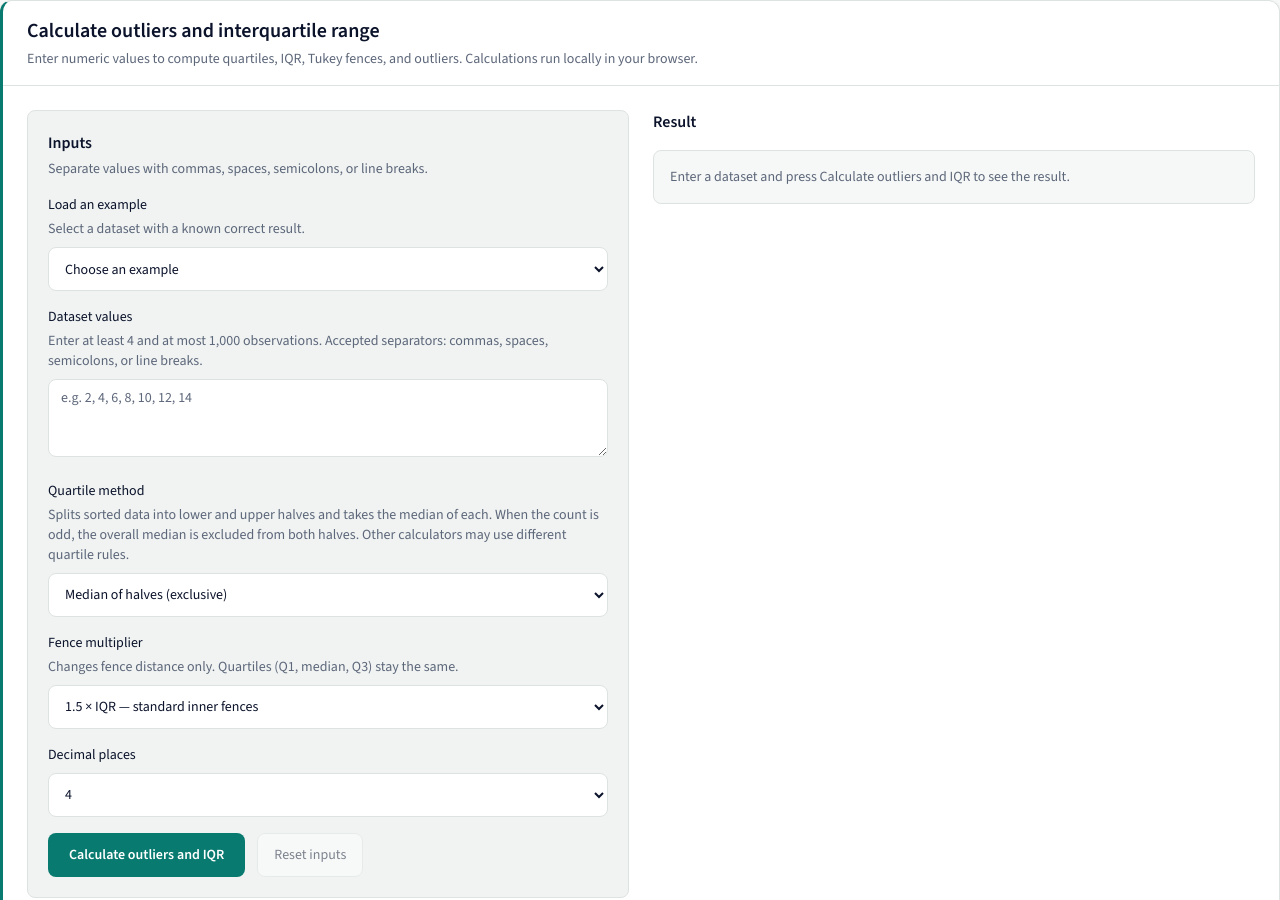
OutlierIqrCalculator calculation workflow › clears stale state after recalculation
The width and height of the screenshot is (1280, 900).
Step 1. Type "2, 4, 6, 8, 10, 12, 14" into the text box labelled "Dataset values" → x=328, y=418, box [48, 379, 608, 457]
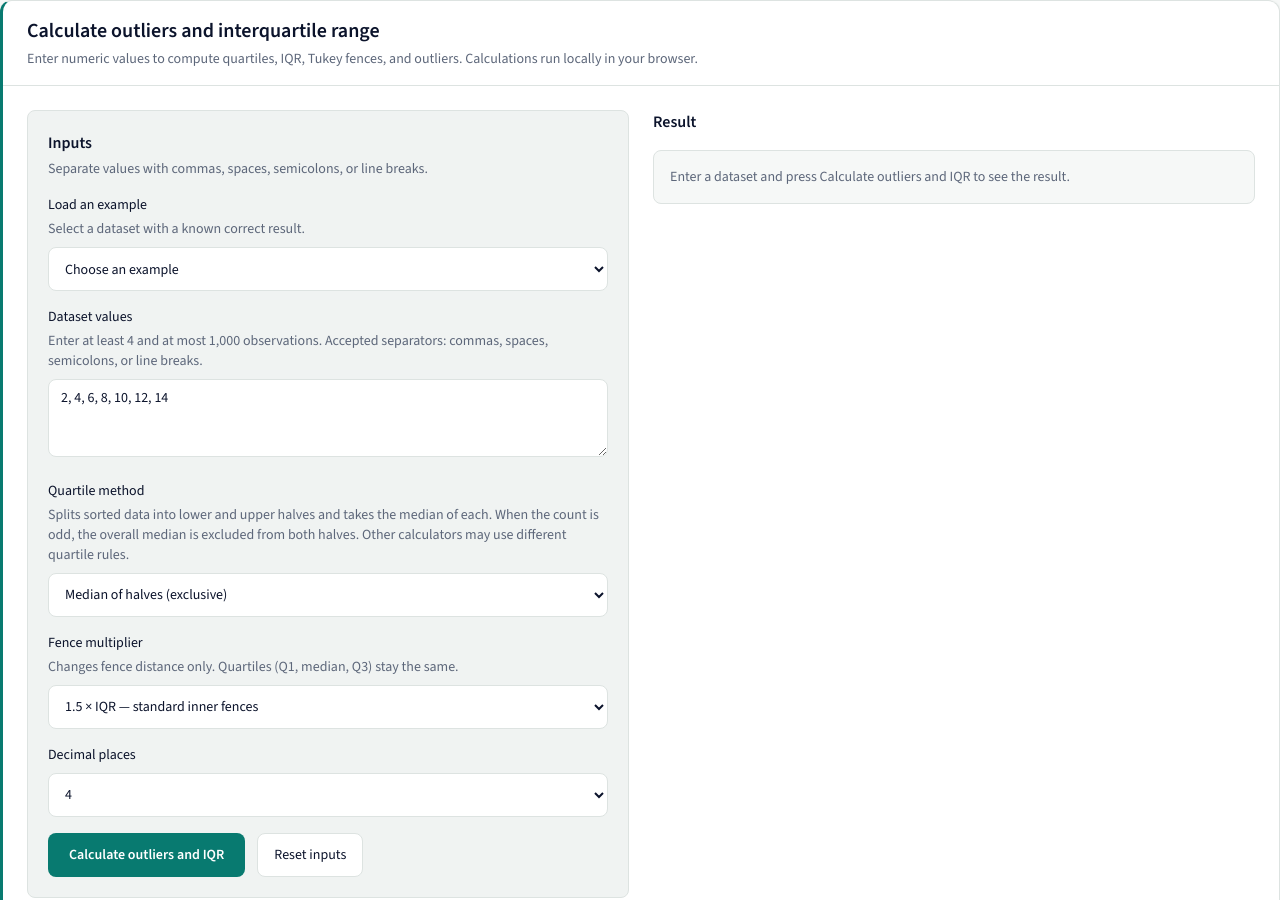
Step 2. Click the button "Calculate outliers and IQR" → x=147, y=855, box [48, 833, 245, 877]
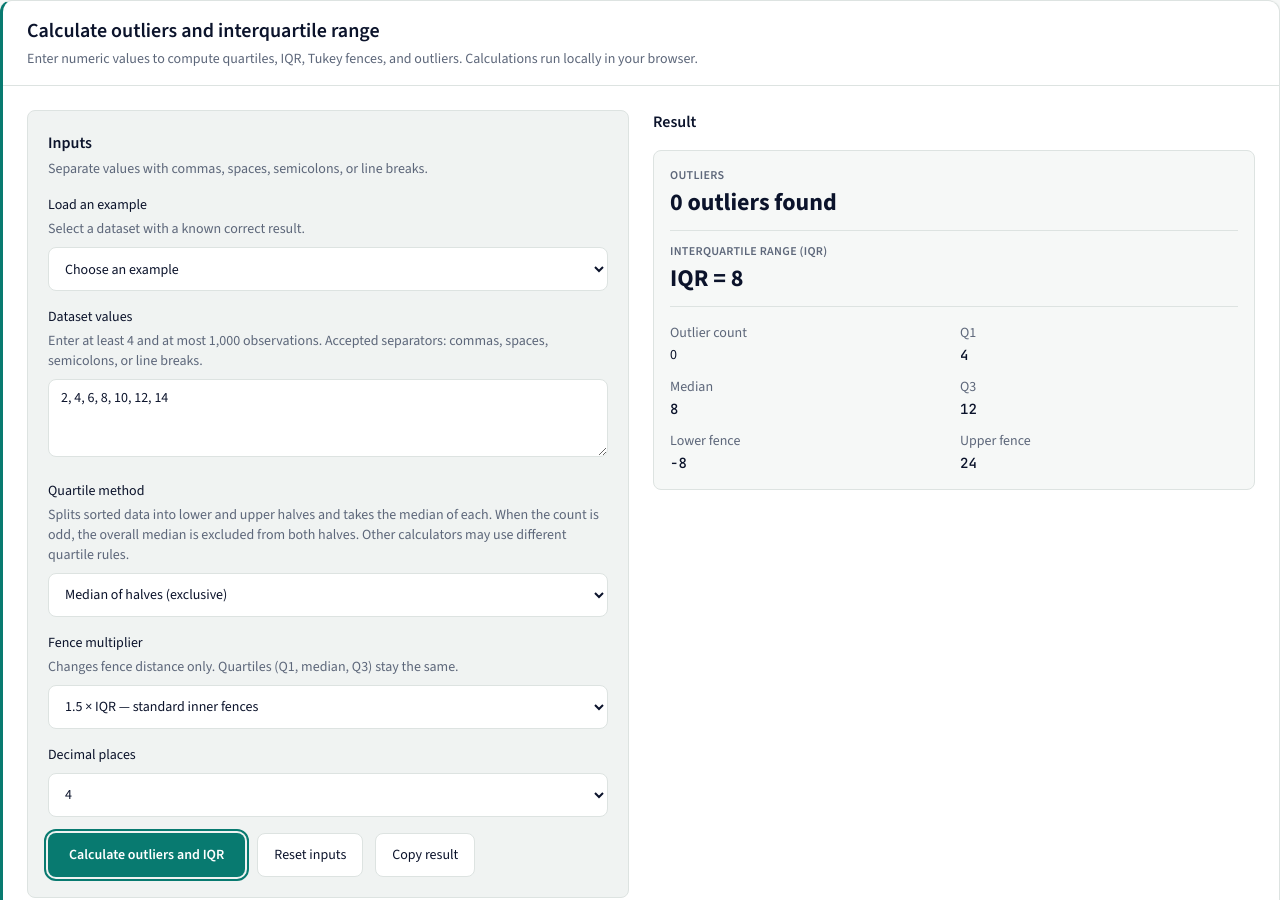
Step 3. Select "3.0 × IQR — wider outer fences" in the dropdown labelled "Fence multiplier" → x=328, y=707, box [48, 685, 608, 729]
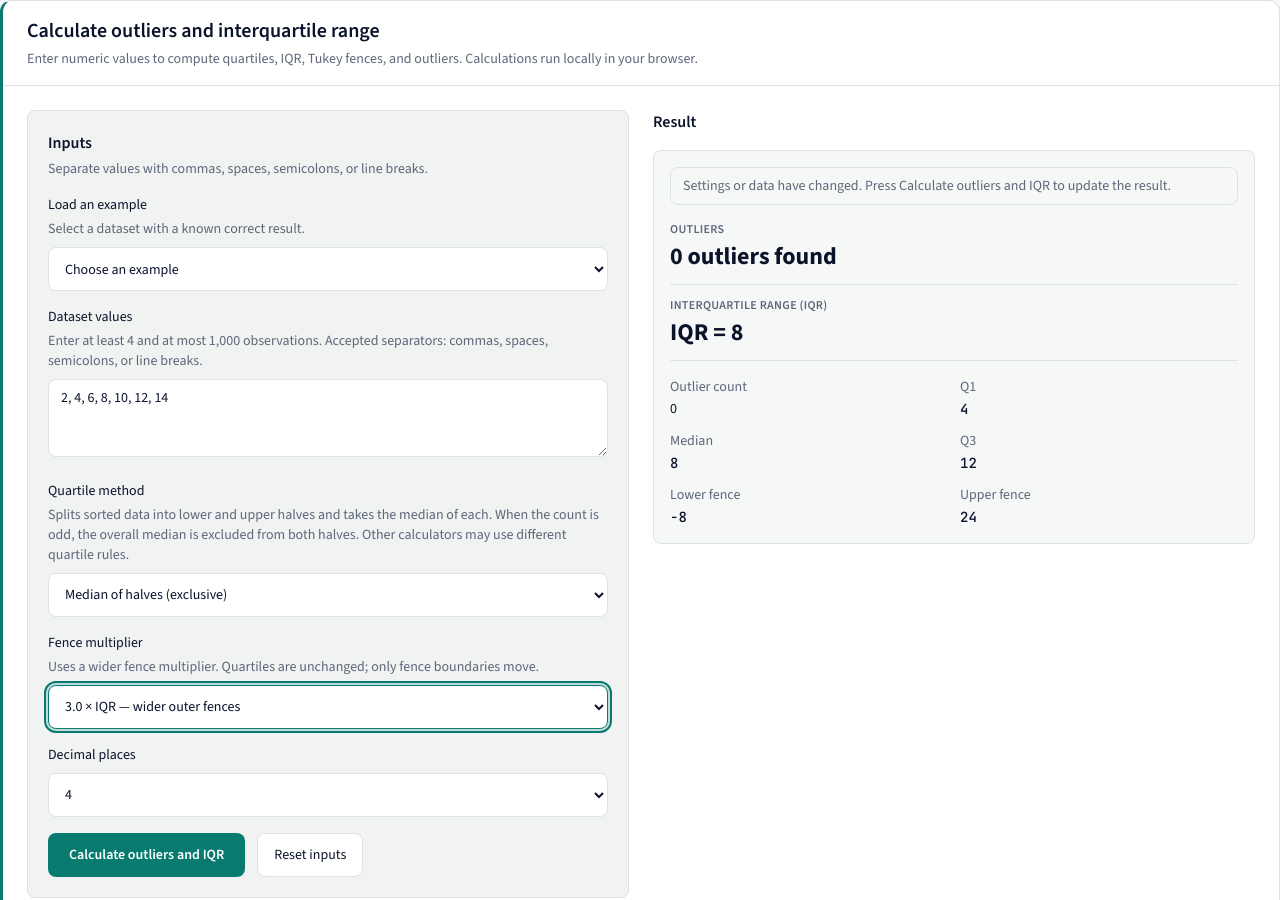
expect the text "Settings or data have changed. Press Calculate outliers and IQR to update the result." is shown: met, box [683, 176, 1171, 195]
Step 4. Click the button "Calculate outliers and IQR" → x=147, y=855, box [48, 833, 245, 877]
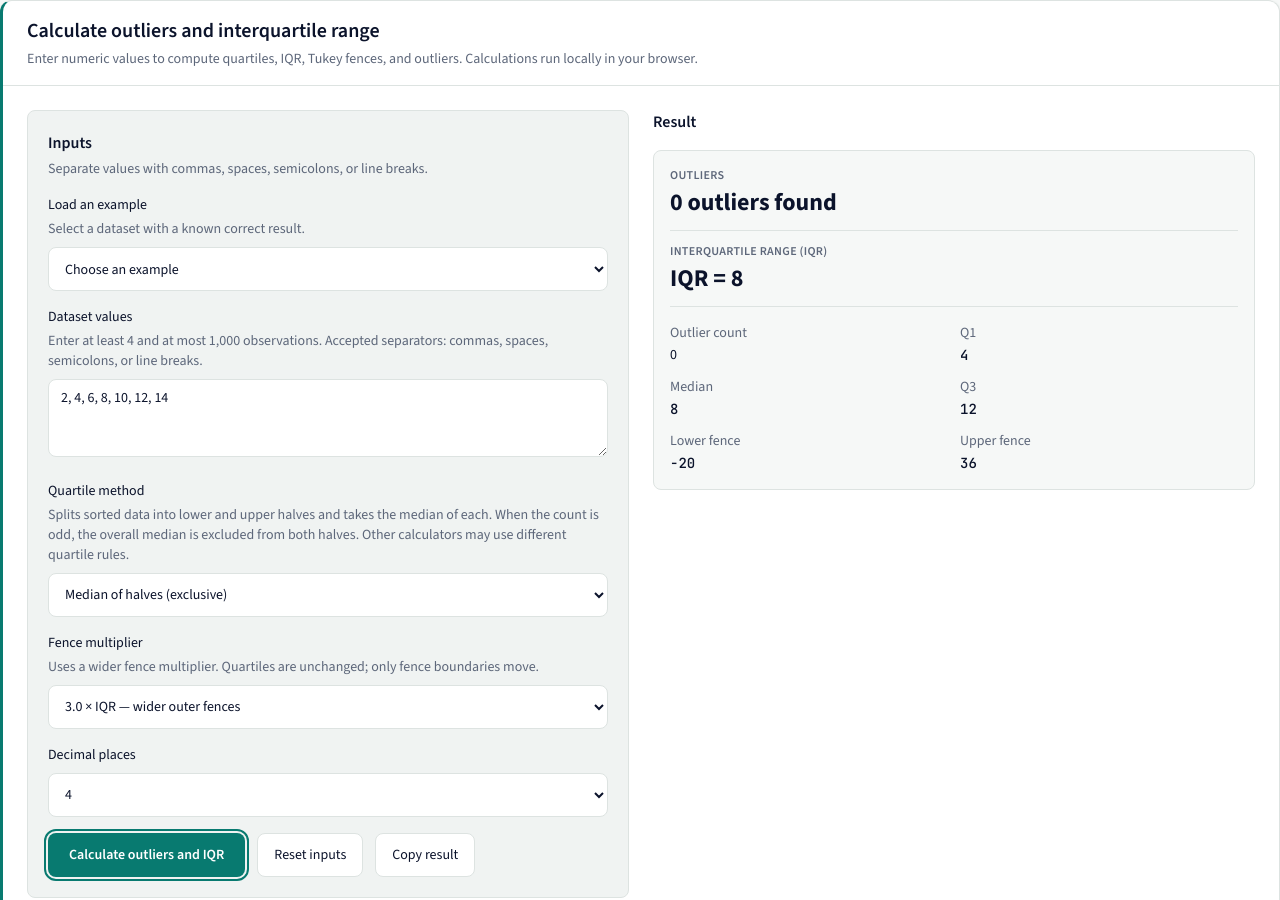
expect the text "Settings or data have changed. Press Calculate outliers and IQR to update the result." is gone: met
expect the button "Copy result" is shown: met, box [375, 833, 475, 877]
